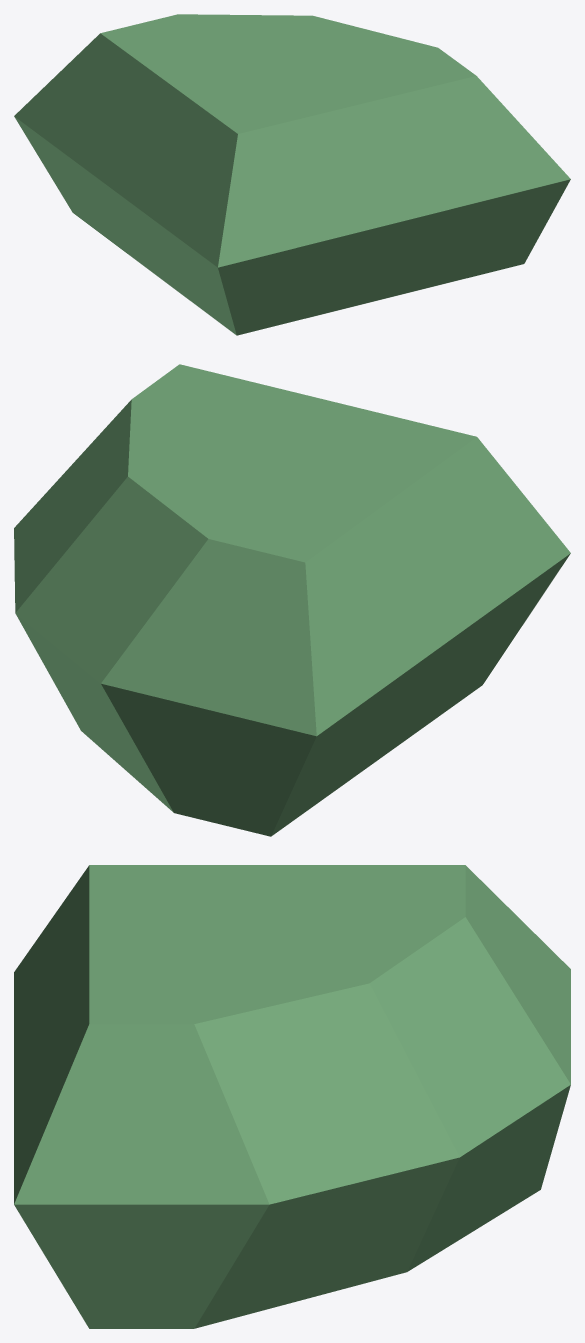
Rendered from GrassOverhangCorner.fbx.
3 views of the same model, one above another, from view 1: azimuth 30°, elevation 25°; view 2: azimuth 150°, elevation 25°; view 3: azimuth 270°, elevation 25° (orthographic). The views are drawn at different scales.
Visible parts, largest first — view 1: OverhangCorner; view 2: OverhangCorner; view 3: OverhangCorner.
Part boxes in pixels (x1,y1,x2,y2): OverhangCorner: (14, 14, 570, 335); OverhangCorner: (14, 364, 570, 836); OverhangCorner: (14, 865, 570, 1328).
Size of the model in its own units: 0.37 by 0.2 by 0.37.
